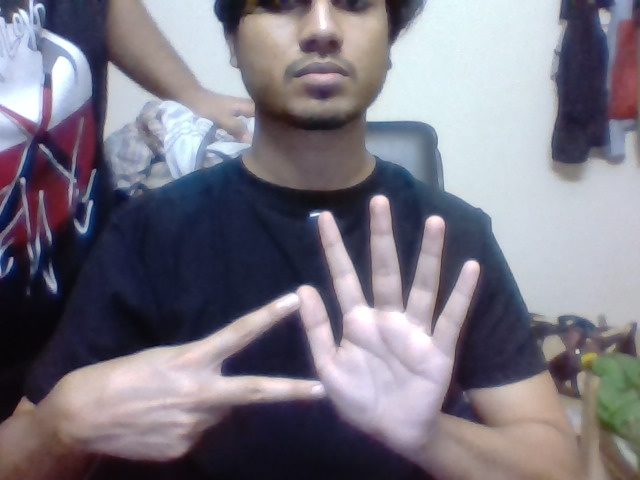N: (184, 291, 296, 414)
